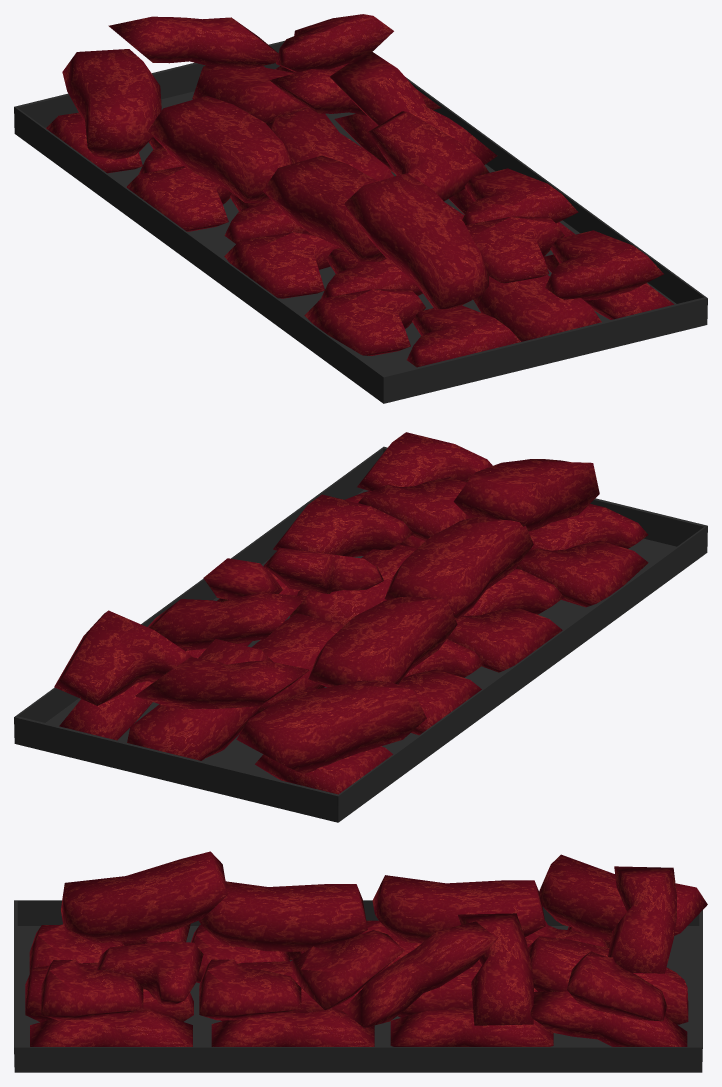
The model's file is tray of laman loob.fbx.
The picture shows the model from 3 angles, top to bottom: view 1: azimuth 30°, elevation 25°; view 2: azimuth 150°, elevation 25°; view 3: azimuth 270°, elevation 25°; orthographic projection. The views are drawn at different scales.
Parts seen in each view (by area): view 1: tray.003, laman loob 1.009, laman loob 1.007, laman loob 1.006, laman loob 1.008, laman loob 2.008, laman loob 3.010, laman loob 3.013, laman loob 3.003, laman loob 2.006, laman loob 3.005, laman loob 1.002 (+14 smaller); view 2: tray.003, laman loob 1.006, laman loob 1.007, laman loob 1.008, laman loob 1.009, laman loob 3.014, laman loob 2.008, laman loob 1.005, laman loob 2.007, laman loob 3.012, laman loob 3.003, laman loob 3.010 (+12 smaller); view 3: tray.003, laman loob 1.009, laman loob 1.008, laman loob 1.007, laman loob 2.006, laman loob 2.008, laman loob 1.006, laman loob 2.007, laman loob 3.013, laman loob 2.003, laman loob 3.012, laman loob 2.005 (+14 smaller).
Boxes of the visible parts, bbox=[...] form: tray.003: bbox=[14, 40, 707, 403]; laman loob 1.009: bbox=[344, 173, 488, 309]; laman loob 1.007: bbox=[148, 96, 293, 202]; laman loob 1.006: bbox=[62, 49, 161, 159]; laman loob 1.008: bbox=[263, 155, 386, 262]; laman loob 2.008: bbox=[108, 16, 278, 69]; laman loob 3.010: bbox=[545, 230, 663, 300]; laman loob 3.013: bbox=[368, 111, 489, 201]; laman loob 3.003: bbox=[304, 289, 425, 355]; laman loob 2.006: bbox=[330, 49, 497, 164]; laman loob 3.005: bbox=[224, 232, 339, 298]; laman loob 1.002: bbox=[473, 275, 601, 341]; tray.003: bbox=[14, 446, 707, 822]; laman loob 1.006: bbox=[236, 680, 426, 774]; laman loob 1.007: bbox=[308, 596, 457, 687]; laman loob 1.008: bbox=[384, 516, 533, 619]; laman loob 1.009: bbox=[453, 459, 599, 531]; laman loob 3.014: bbox=[54, 610, 193, 705]; laman loob 2.008: bbox=[135, 657, 309, 708]; laman loob 1.005: bbox=[127, 639, 272, 760]; laman loob 2.007: bbox=[147, 592, 307, 650]; laman loob 3.012: bbox=[273, 494, 413, 556]; laman loob 3.003: bbox=[516, 540, 648, 607]; laman loob 3.010: bbox=[357, 432, 492, 491]; tray.003: bbox=[14, 900, 702, 1072]; laman loob 1.009: bbox=[61, 851, 227, 942]; laman loob 1.008: bbox=[198, 881, 367, 951]; laman loob 1.007: bbox=[372, 875, 545, 943]; laman loob 2.006: bbox=[342, 921, 497, 1027]; laman loob 2.008: bbox=[608, 866, 676, 973]; laman loob 1.006: bbox=[539, 854, 707, 940]; laman loob 2.007: bbox=[458, 913, 533, 1025]; laman loob 3.013: bbox=[291, 930, 404, 1009]; laman loob 2.003: bbox=[211, 1010, 374, 1046]; laman loob 3.012: bbox=[199, 959, 301, 1020]; laman loob 2.005: bbox=[530, 991, 687, 1046].
Bounding box in the file's own units: 99.56 × 19.46 × 51.2.
